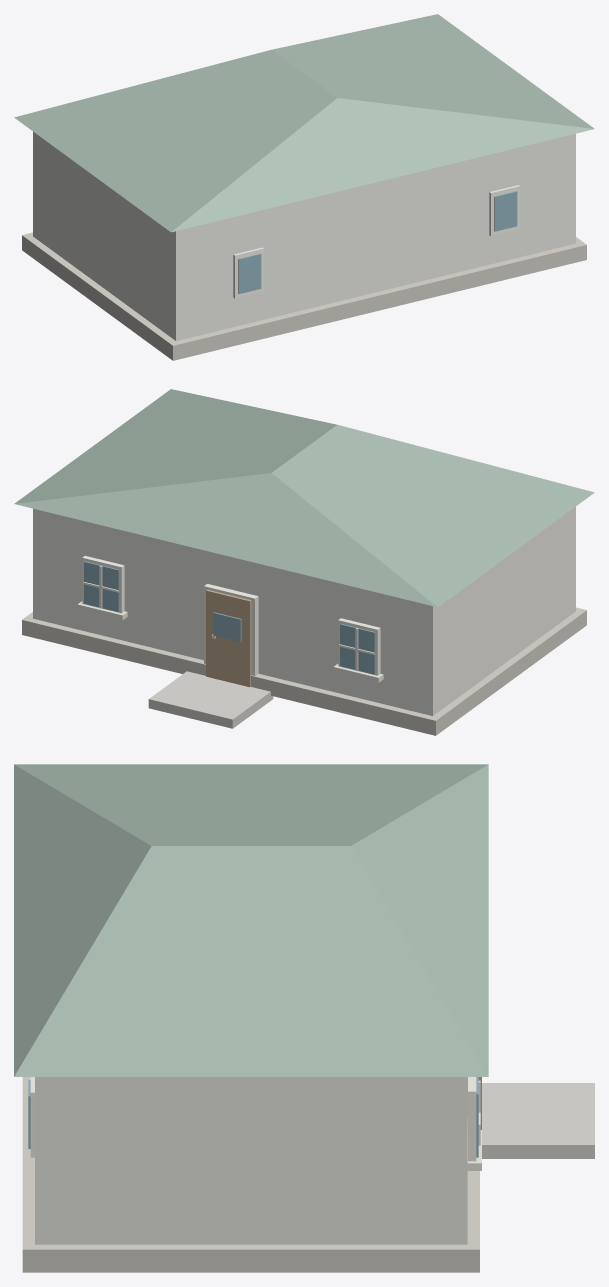
File: House_Ranch.glb
3 views of the same model, one above another, from view 1: azimuth 30°, elevation 25°; view 2: azimuth 150°, elevation 25°; view 3: azimuth 270°, elevation 25° (orthographic). The views are drawn at different scales.
Visible parts, largest first — view 1: 002_hip_roof_002, 001_exterior_001, 000_foundation_000, 021_rear_glass_021, 019_rear_glass_019, 020_rear_window_020, 018_rear_window_018; view 2: 002_hip_roof_002, 001_exterior_001, 000_foundation_000, 017_stoop_017, 014_door_014, 004_window_glass_004, 009_window_glass_009, 013_door_trim_013, 016_door_glazing_016, 008_window_trim_008, 003_window_trim_003; view 3: 002_hip_roof_002, 001_exterior_001, 000_foundation_000, 017_stoop_017, 008_window_trim_008.
Boxes of the visible parts, x1,y1,x2,y2 form: 002_hip_roof_002: (14,14,594,232); 001_exterior_001: (33,131,575,340); 000_foundation_000: (22,232,586,360); 021_rear_glass_021: (494,191,517,231); 019_rear_glass_019: (238,253,261,293); 020_rear_window_020: (489,185,519,235); 018_rear_window_018: (233,247,263,298); 002_hip_roof_002: (14,389,594,607); 001_exterior_001: (33,506,575,715); 000_foundation_000: (22,607,586,735); 017_stoop_017: (148,671,273,728); 014_door_014: (206,589,251,687); 004_window_glass_004: (340,623,375,674); 009_window_glass_009: (84,561,119,611); 013_door_trim_013: (204,584,258,675); 016_door_glazing_016: (213,612,241,641); 008_window_trim_008: (82,555,124,613); 003_window_trim_003: (338,618,380,675); 002_hip_roof_002: (14,764,488,1076); 001_exterior_001: (35,1077,467,1244); 000_foundation_000: (22,1077,479,1272); 017_stoop_017: (482,1083,594,1158); 008_window_trim_008: (468,1077,476,1161).
Bounding box in the file's own units: 10.6 × 4.45 × 8.33.
